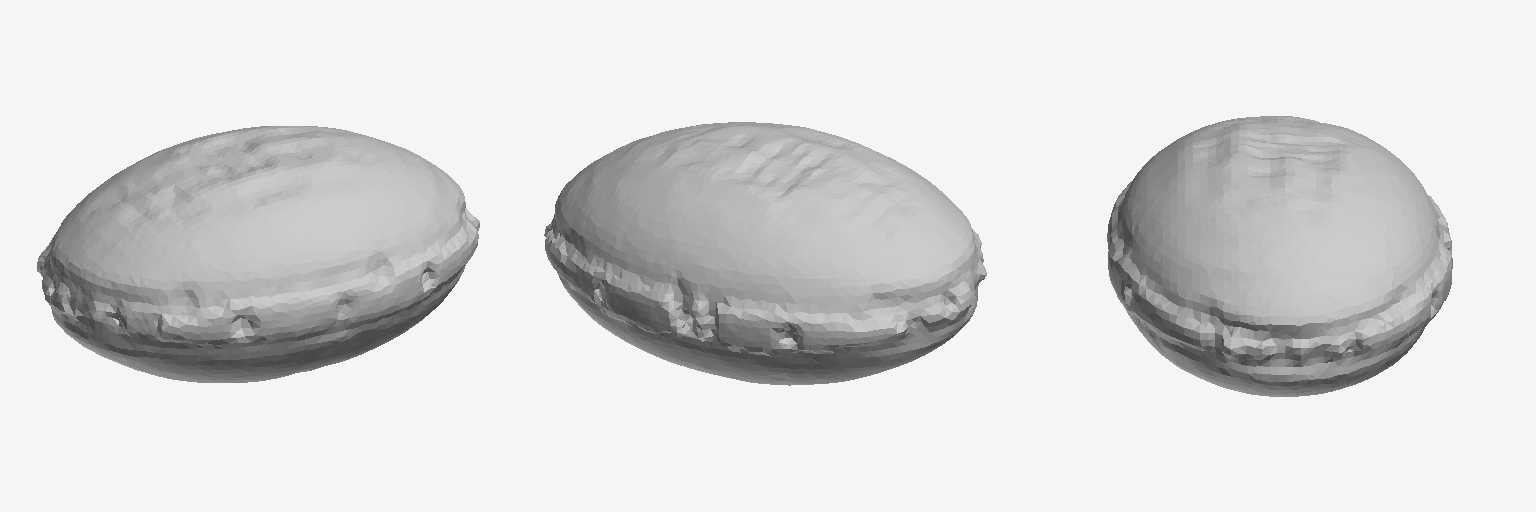
Rendered from egg.obj.
The picture shows the model from 3 angles: view 1: azimuth 30°, elevation 25°; view 2: azimuth 150°, elevation 25°; view 3: azimuth 270°, elevation 25°; orthographic projection.
Visible parts, largest first — view 1: egg_whole; view 2: egg_whole; view 3: egg_whole.
Part boxes in pixels (left/top/right/bottom): egg_whole: left=37, top=126, right=479, bottom=382; egg_whole: left=544, top=122, right=986, bottom=385; egg_whole: left=1107, top=116, right=1452, bottom=396.
Size of the model in its own units: 13.2 by 6.52 by 9.84.